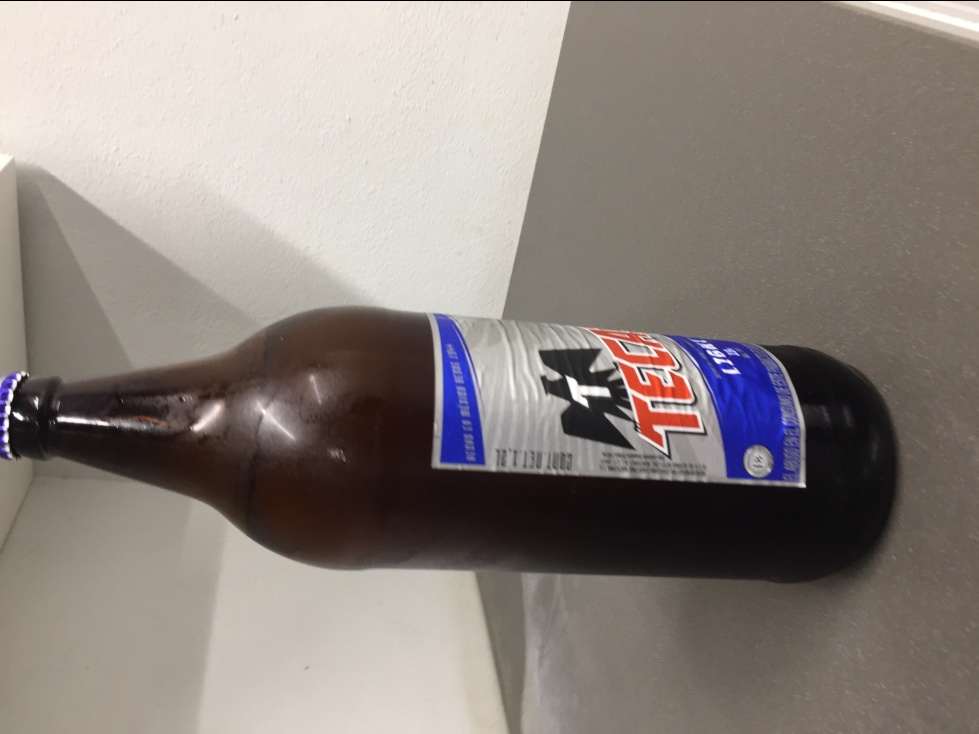tecateC: (12, 306, 897, 579)
